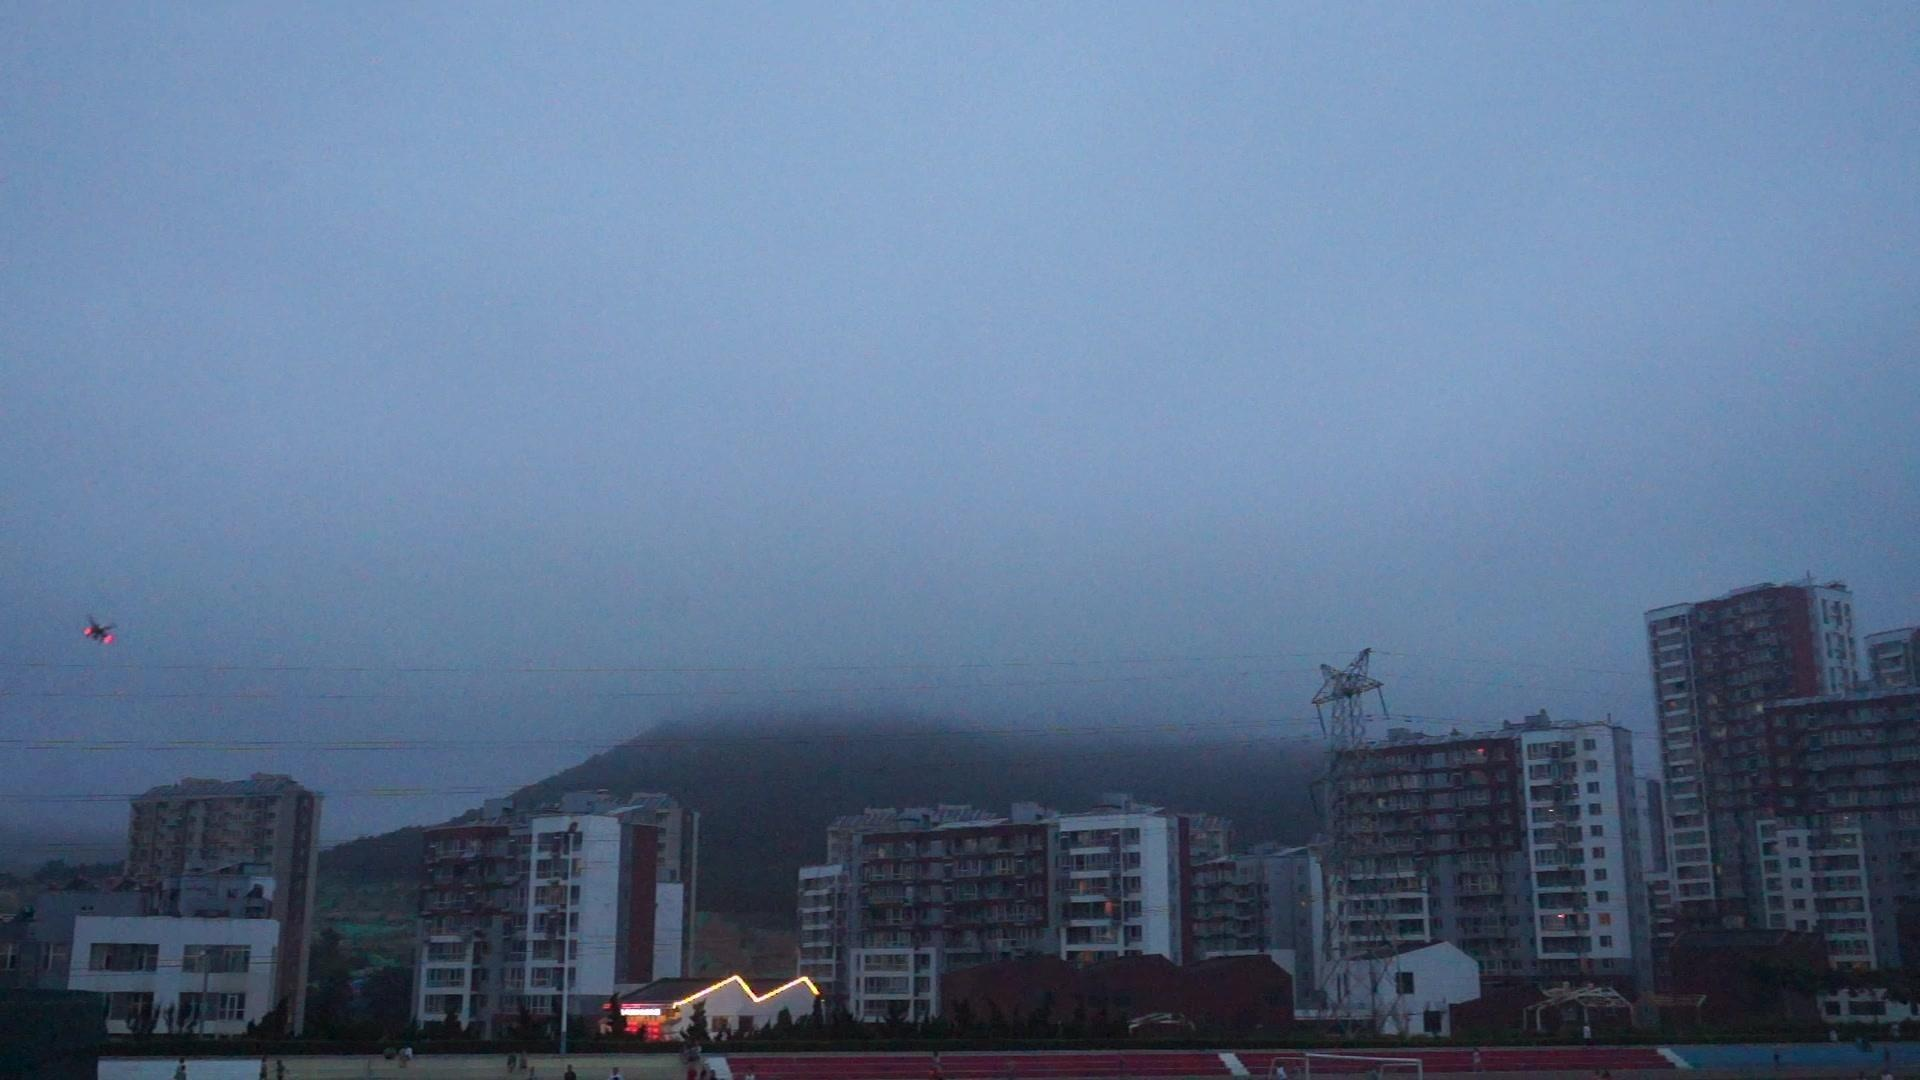UAV: (83, 616, 117, 645)
